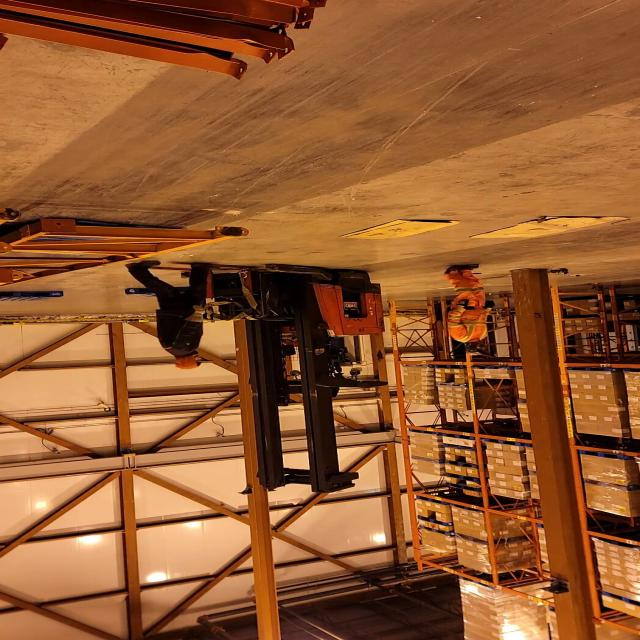forklift: (174, 261, 385, 486)
human: (118, 258, 216, 370), (424, 260, 510, 354)
objectofinterest: (0, 215, 256, 285), (464, 213, 632, 240), (337, 218, 460, 242), (119, 286, 197, 303), (0, 287, 72, 305)
